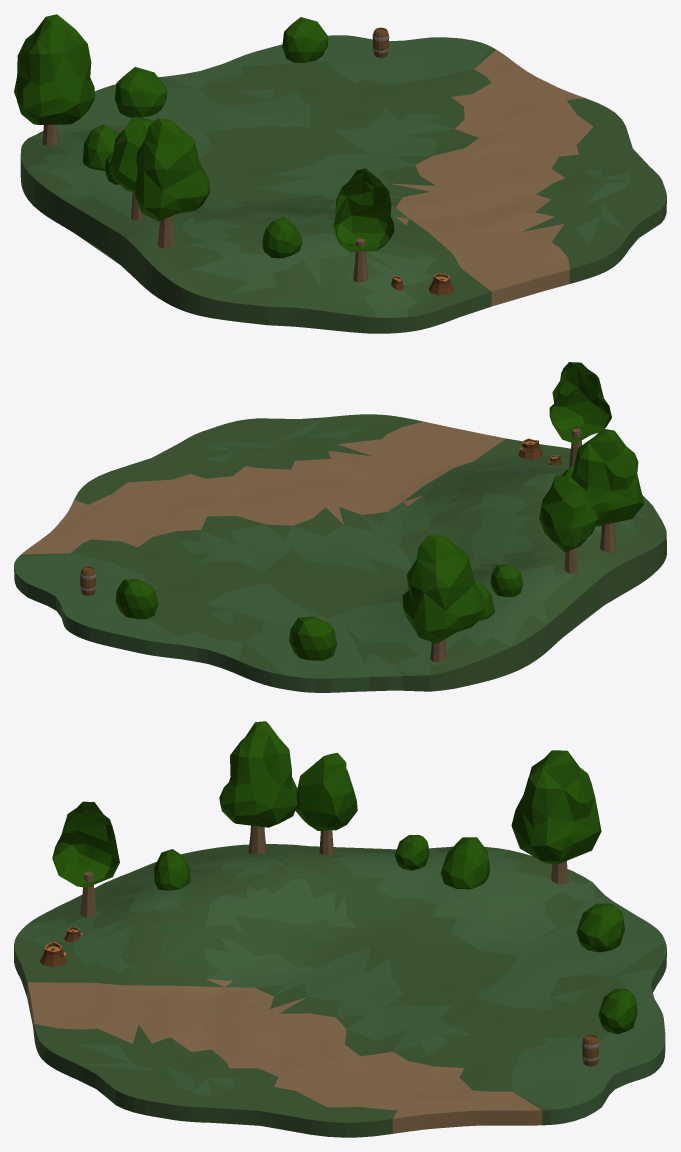
3 views of the same model, one above another, from view 1: azimuth 30°, elevation 25°; view 2: azimuth 150°, elevation 25°; view 3: azimuth 270°, elevation 25° (orthographic). The views are drawn at different scales.
Parts seen in each view (by area): view 1: Base, albero2, albero3, albero1, cespuglio5, albero4, cespuglio2, cespuglio3, cespuglio1; view 2: Base, albero2, albero3, albero1, albero4, cespuglio5, cespuglio2, cespuglio4; view 3: Base, albero2, albero3, albero1, albero4, cespuglio1, cespuglio5, cespuglio2, cespuglio3, cespuglio4.
Part boxes in pixels (x1=…): Base: x1=20, y1=35, x2=666, y2=333; albero2: x1=14, y1=14, x2=95, y2=145; albero3: x1=135, y1=118, x2=209, y2=248; albero1: x1=333, y1=168, x2=394, y2=282; cespuglio5: x1=115, y1=67, x2=167, y2=117; albero4: x1=110, y1=116, x2=154, y2=220; cespuglio2: x1=282, y1=17, x2=328, y2=62; cespuglio3: x1=262, y1=216, x2=302, y2=258; cespuglio1: x1=82, y1=124, x2=119, y2=170; Base: x1=14, y1=414, x2=666, y2=692; albero2: x1=402, y1=534, x2=485, y2=662; albero3: x1=571, y1=428, x2=644, y2=552; albero1: x1=549, y1=362, x2=611, y2=467; albero4: x1=539, y1=475, x2=599, y2=573; cespuglio5: x1=289, y1=616, x2=337, y2=660; cespuglio2: x1=115, y1=579, x2=158, y2=619; cespuglio4: x1=490, y1=564, x2=522, y2=597; Base: x1=14, y1=844, x2=666, y2=1137; albero2: x1=511, y1=750, x2=601, y2=884; albero3: x1=219, y1=721, x2=297, y2=854; albero1: x1=52, y1=801, x2=119, y2=917; albero4: x1=295, y1=752, x2=357, y2=854; cespuglio1: x1=440, y1=837, x2=489, y2=889; cespuglio5: x1=576, y1=903, x2=624, y2=952; cespuglio2: x1=598, y1=989, x2=637, y2=1034; cespuglio3: x1=154, y1=849, x2=190, y2=890; cespuglio4: x1=395, y1=835, x2=429, y2=870.
Bounding box in the file's own units: 1.76 × 0.5119 × 1.83.
